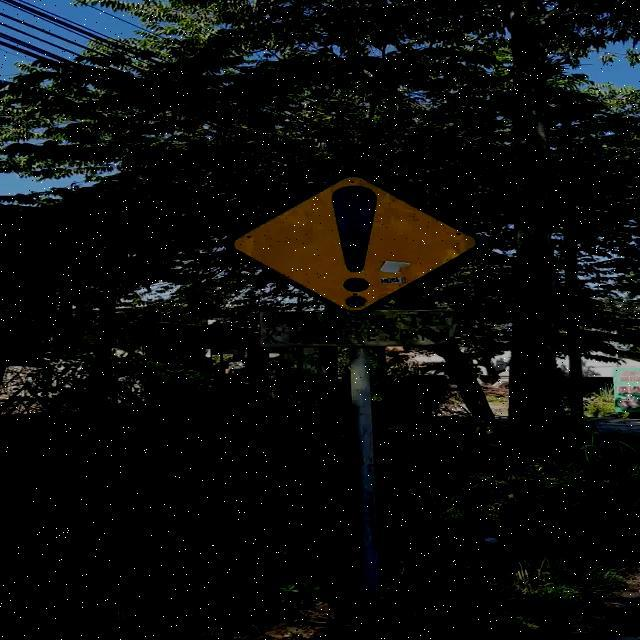Hati-Hati: (224, 170, 486, 308)
